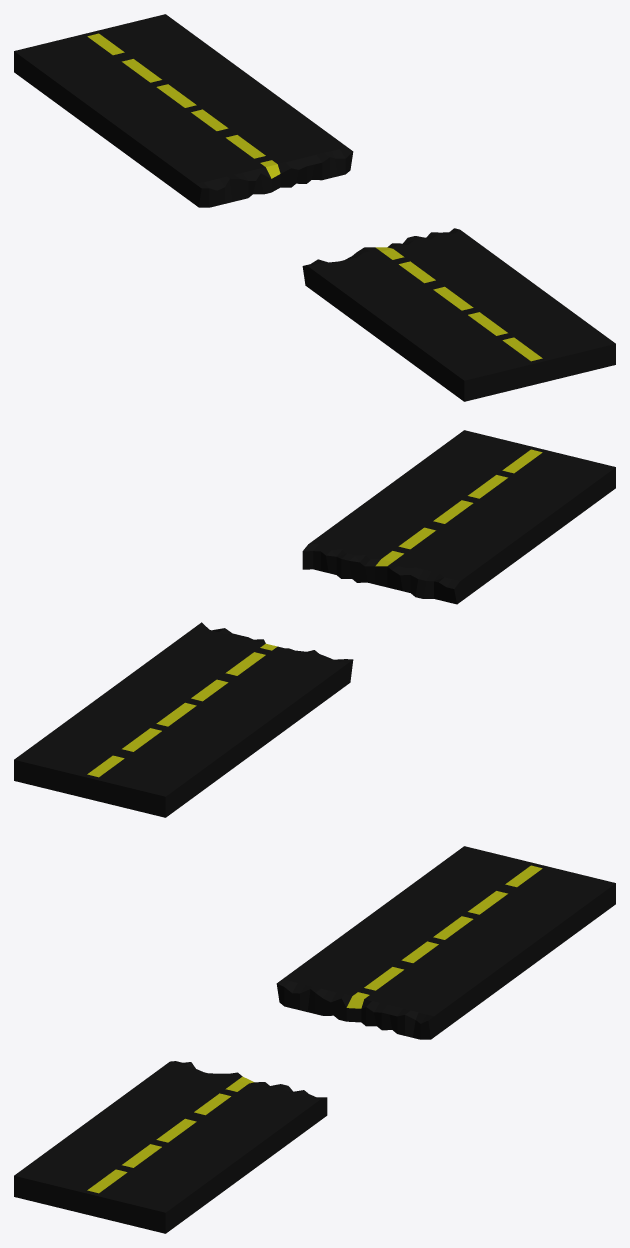
Rendered from RoadSegmentBroken.fbx.
3 renders of one model, top to bottom at view 1: azimuth 30°, elevation 25°; view 2: azimuth 150°, elevation 25°; view 3: azimuth 330°, elevation 25°, orthographic.
Visible parts, largest first — view 1: Cube.001; view 2: Cube.001; view 3: Cube.001.
Boxes of the visible parts, box(x1,y1,x2,y2) form: Cube.001: box(14, 14, 615, 401); Cube.001: box(14, 430, 615, 817); Cube.001: box(14, 846, 615, 1233).
Size of the model in its own units: 1109 by 148 by 5703.
